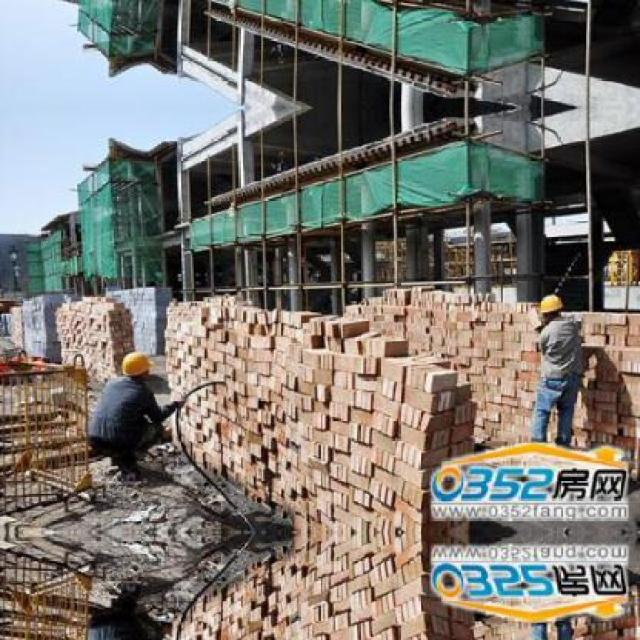helmet: (536, 290, 570, 324), (117, 349, 154, 380)
